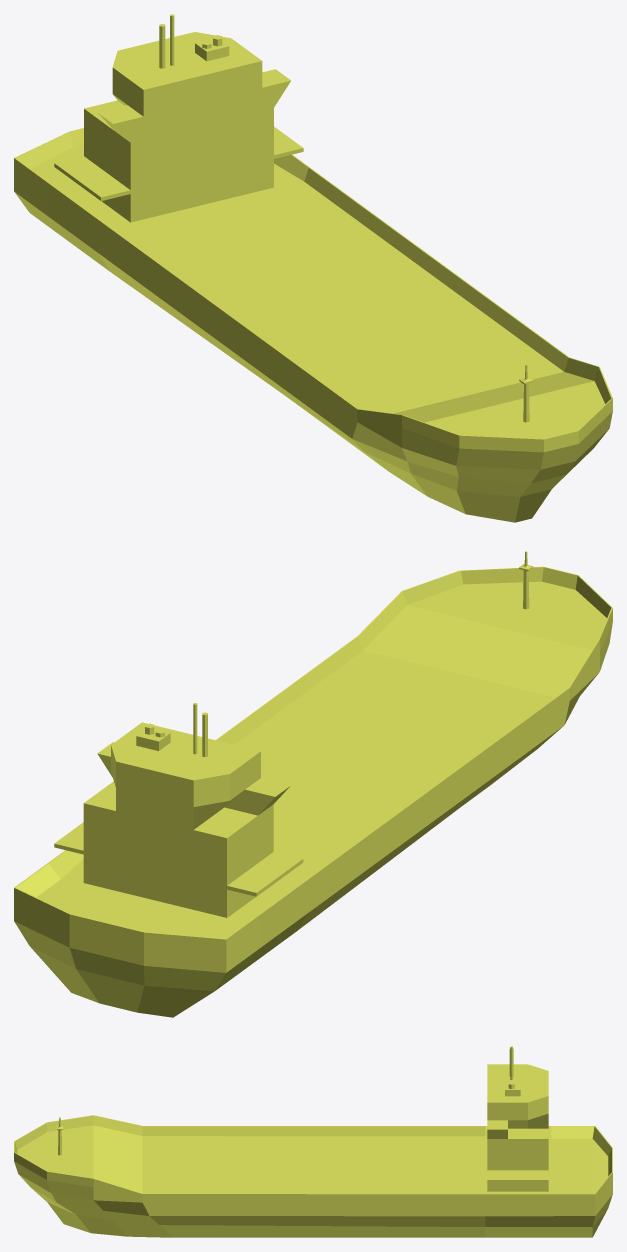
Rendered from BoatV2.fbx.
3 renders of one model, top to bottom at view 1: azimuth 30°, elevation 25°; view 2: azimuth 150°, elevation 25°; view 3: azimuth 270°, elevation 25°, orthographic. The views are drawn at different scales.
Visible parts, largest first — view 1: pCube3, pCube4; view 2: pCube3, pCube4; view 3: pCube3, pCube4.
Part boxes in pixels (x1,y1,x2,y2): pCube3: (14, 128, 612, 522); pCube4: (54, 32, 303, 222); pCube3: (14, 566, 612, 1017); pCube4: (54, 722, 303, 917); pCube3: (14, 1115, 612, 1237); pCube4: (487, 1064, 548, 1191).
Size of the model in its own units: 46.13 by 53.84 by 171.
